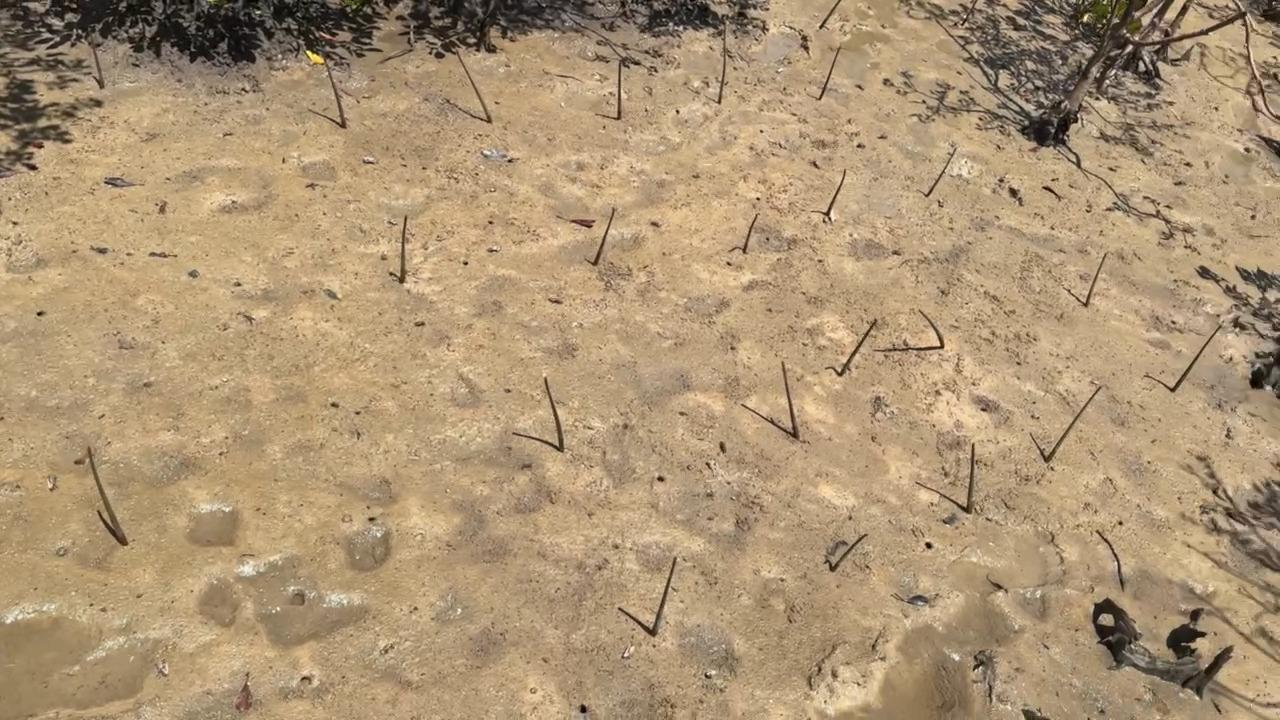Tree: (1045, 387, 1101, 463), (87, 445, 127, 544), (1171, 326, 1222, 391), (456, 47, 493, 123), (839, 321, 878, 377), (652, 557, 678, 636), (323, 52, 347, 129), (544, 379, 565, 452), (926, 147, 956, 196), (782, 361, 800, 440), (830, 534, 868, 571), (594, 208, 615, 266), (818, 49, 840, 101), (917, 310, 944, 348), (1086, 255, 1106, 306), (825, 170, 846, 217), (90, 32, 106, 88), (718, 30, 728, 103), (819, 0, 841, 29), (967, 443, 975, 513), (400, 216, 408, 282), (743, 215, 757, 251), (961, 0, 977, 26), (618, 62, 622, 120)
